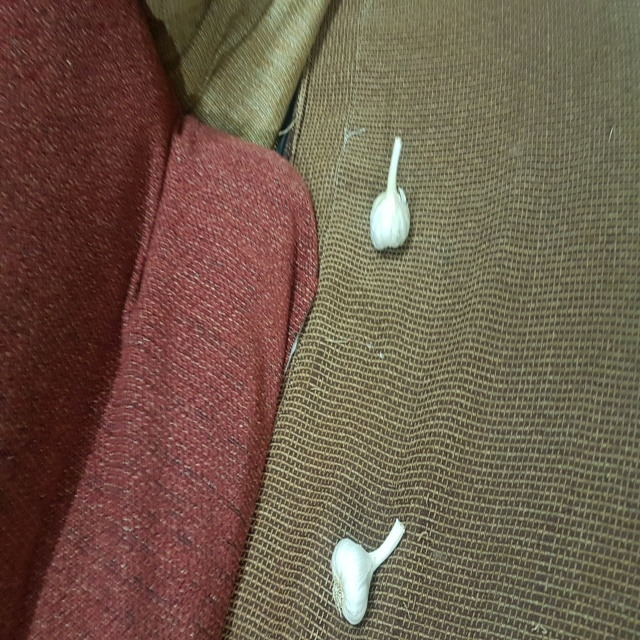garlic: (327, 515, 410, 621), (368, 133, 426, 254)
